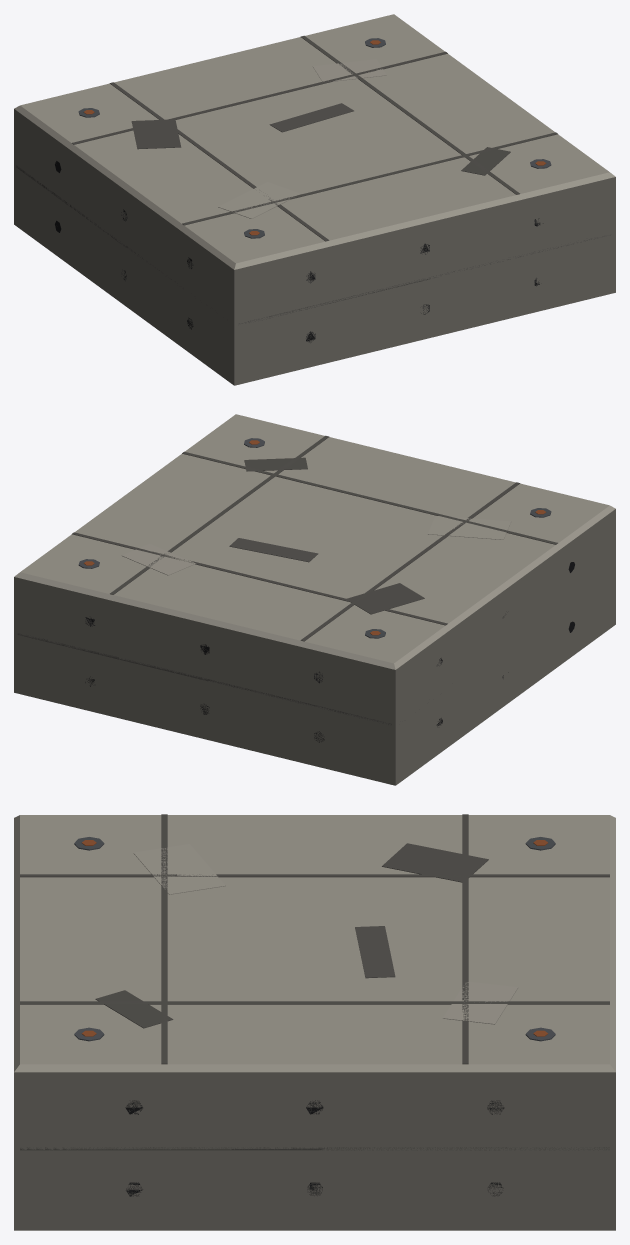
The model's file is piece_foundation_concrete.fbx.
3 views of the same model, one above another, from view 1: azimuth 30°, elevation 25°; view 2: azimuth 150°, elevation 25°; view 3: azimuth 270°, elevation 25° (orthographic). The views are drawn at different scales.
Parts seen in each view (by area): view 1: piece_foundation_concrete; view 2: piece_foundation_concrete; view 3: piece_foundation_concrete.
Part boxes in pixels (<box>): piece_foundation_concrete: <box>14,14,615,385</box>; piece_foundation_concrete: <box>14,414,615,785</box>; piece_foundation_concrete: <box>14,814,615,1230</box>.
Size of the model in its own units: 2 by 0.606 by 2.
